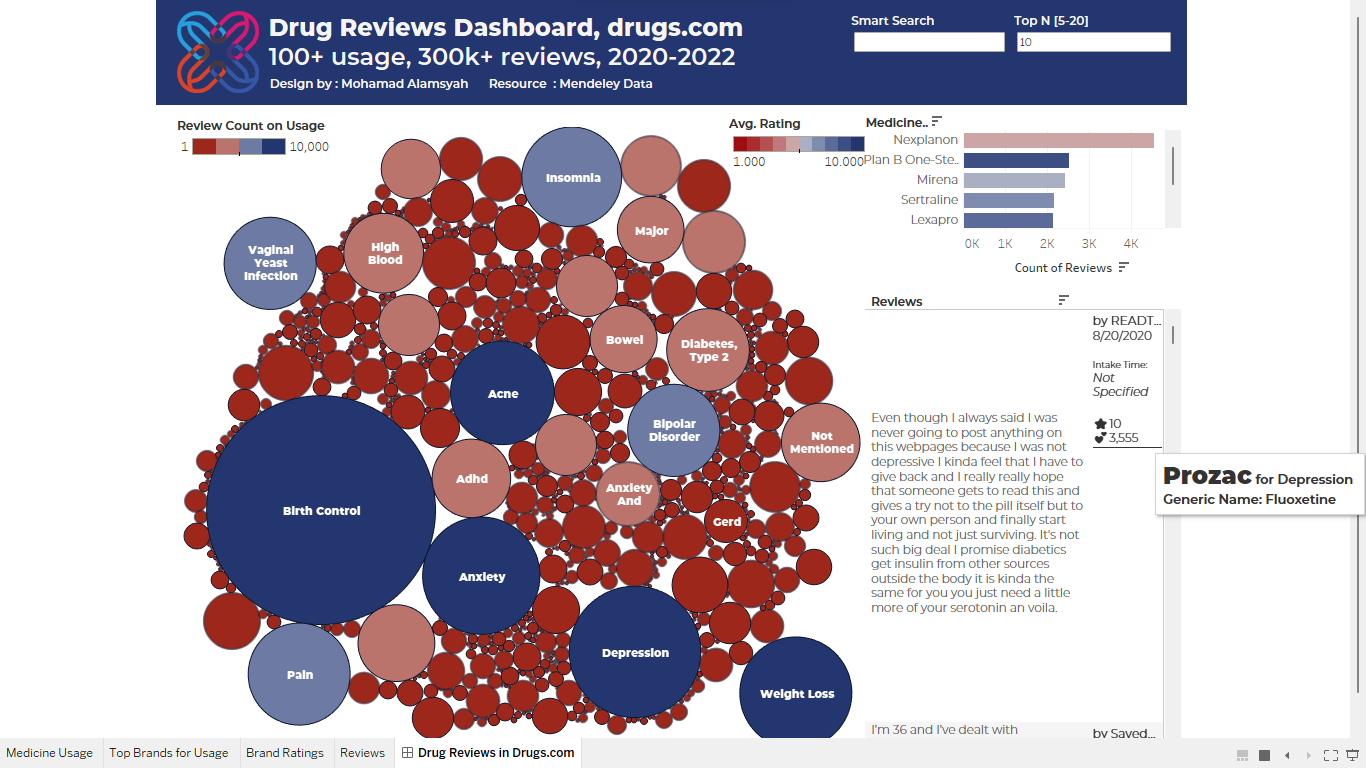

The dashboard page shown, as its layout file describes it:
{"tool":"tableau","page":{"name":"drug-reviews-bigquery","canvas":[1000,800],"ordinal":0},"visuals":[{"type":"text","box":[92,10,523,68]},{"type":"image","param":"C:/Users/acer/Downloads/PROJECTS-2.0/DrugReviews/drugscom-logomark-112x112.png","box":[11,14,78,83]},{"type":"parameter","param":"[Parameters].[Parameter 2]","box":[807,14,159,67]},{"type":"parameter","param":"[Parameters].[Parameter 1]","box":[619,15,151,44]},{"type":"text","box":[620,56,180,45]},{"type":"text","box":[819,62,134,33]},{"type":"text","box":[93,68,440,32]},{"type":"worksheet","title":"Top Brands by Usage","mark":"Automatic","rows":["MedicineBrandName"],"cols":["Reviews"],"box":[605,100,388,215]},{"type":"legend","title":"Medicine Usage","param":"[federated.18pzkps1q4mk2b1e8keax0oiqh2z].[cnt:MedicineUsedFor:qk]","box":[18,115,168,76]},{"type":"legend","title":"Top Brands by Usage","param":"[federated.18pzkps1q4mk2b1e8keax0oiqh2z].[avg:Rating:qk]","box":[357,117,233,76]},{"type":"worksheet","title":"Medicine Usage","mark":"Circle","box":[10,176,591,608]},{"type":"worksheet","title":"Top Generics by Usage","mark":"Automatic","rows":["MedicineGenericName"],"cols":["Reviews"],"box":[606,305,387,214]},{"type":"text","box":[608,525,384,47]},{"type":"worksheet","title":"Reviews","mark":"Automatic","rows":["Reviews"],"box":[605,556,388,234]}]}

Visuals, with their boxes on the page's 1000x800 design canvas (x1, y1, x2, y2). These are canvas units, not pixel positions in the 1366x768 screenshot, which may show the page scaled, cropped or inside an application window:
text: {"x1": 92, "y1": 10, "x2": 615, "y2": 78}
image: {"x1": 11, "y1": 14, "x2": 89, "y2": 97}
parameter: {"x1": 807, "y1": 14, "x2": 966, "y2": 81}
parameter: {"x1": 619, "y1": 15, "x2": 770, "y2": 59}
text: {"x1": 620, "y1": 56, "x2": 800, "y2": 101}
text: {"x1": 819, "y1": 62, "x2": 953, "y2": 95}
text: {"x1": 93, "y1": 68, "x2": 533, "y2": 100}
"Top Brands by Usage" worksheet: {"x1": 605, "y1": 100, "x2": 993, "y2": 315}
"Medicine Usage" legend: {"x1": 18, "y1": 115, "x2": 186, "y2": 191}
"Top Brands by Usage" legend: {"x1": 357, "y1": 117, "x2": 590, "y2": 193}
"Medicine Usage" worksheet (Circle marks): {"x1": 10, "y1": 176, "x2": 601, "y2": 784}
"Top Generics by Usage" worksheet: {"x1": 606, "y1": 305, "x2": 993, "y2": 519}
text: {"x1": 608, "y1": 525, "x2": 992, "y2": 572}
"Reviews" worksheet: {"x1": 605, "y1": 556, "x2": 993, "y2": 790}
